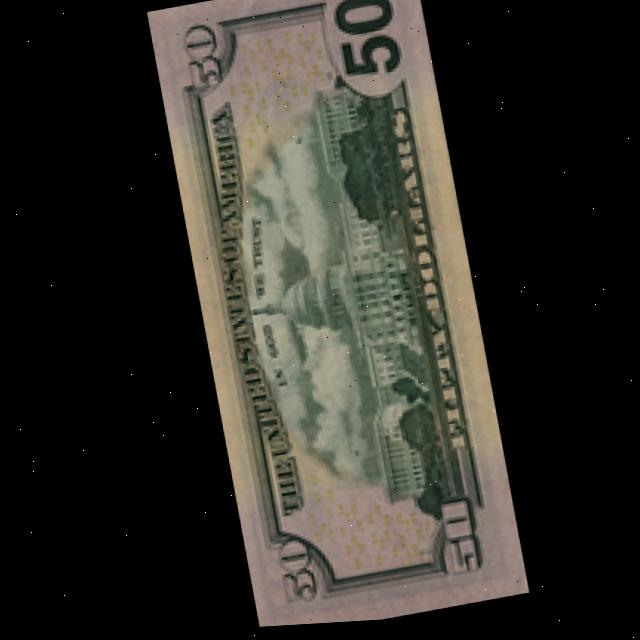banknote: (139, 0, 522, 634)
